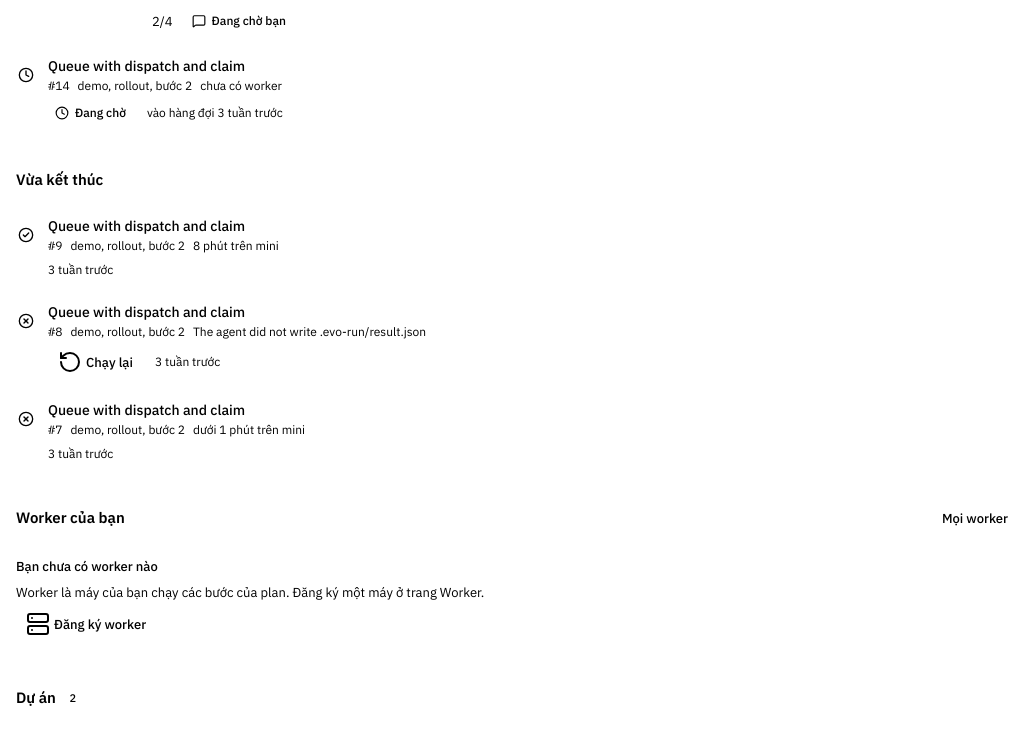
it: HomePage › offers Rerun on the visitor's own failed run only, and reports the new run in a toast
This screenshot has width=1024, height=736.
(page scrolled)
Check: the text with test id "recent-error" reads "The agent did not write .evo-run/result.json", box [193,324,426,339]
What coordinates should you click on to do the following:
click the button with aria-label "Chạy lại #8"
I would click on:
 (96, 362)
Its box is [48,348,143,376].
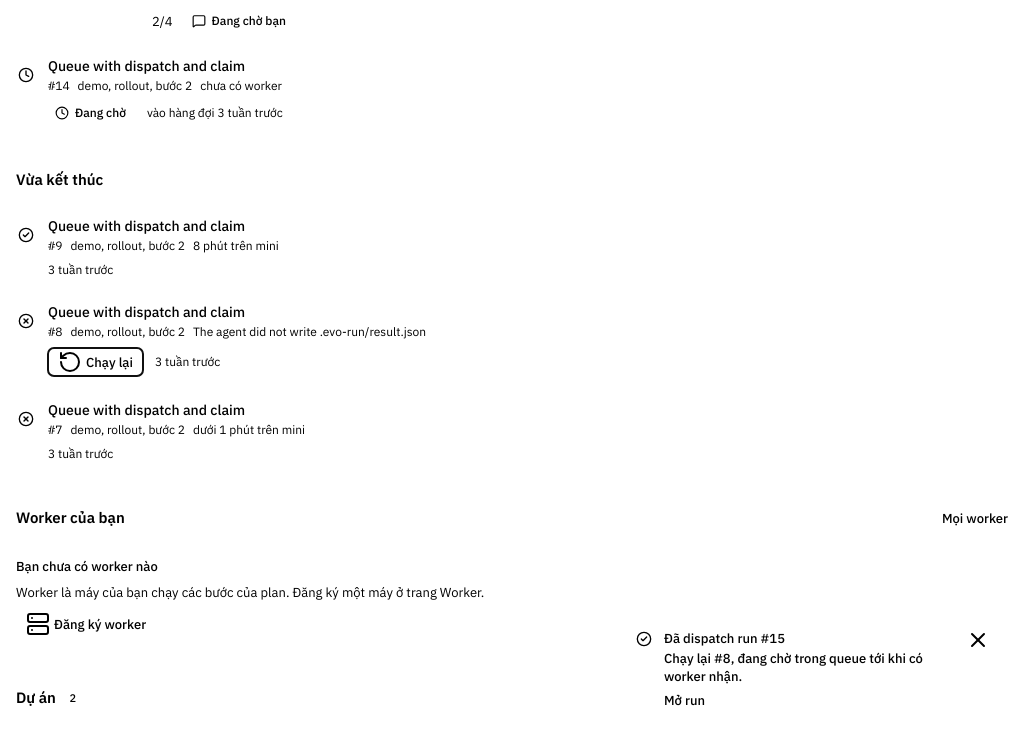
Check: the text "Đã dispatch run #15" is shown, box [664,630,785,647]
